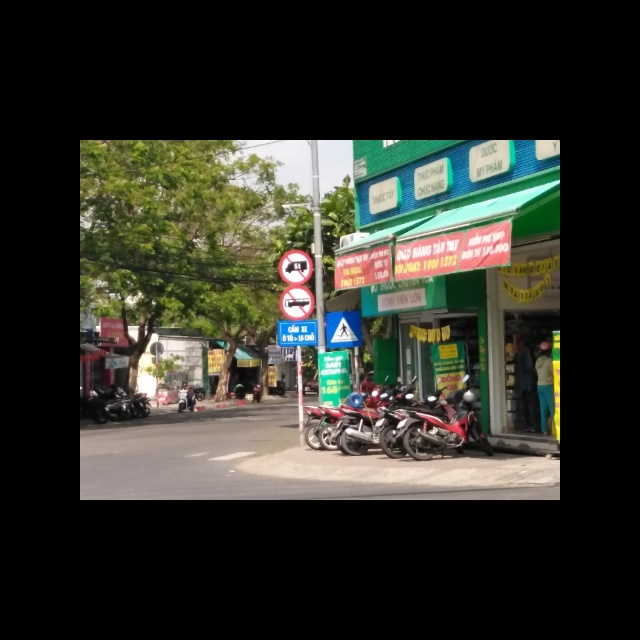Cấm xe tải: (277, 249, 313, 286)
Cấm xe xe khách: (278, 285, 314, 322)
Đường dành cho người đi bộ: (327, 312, 364, 349)
